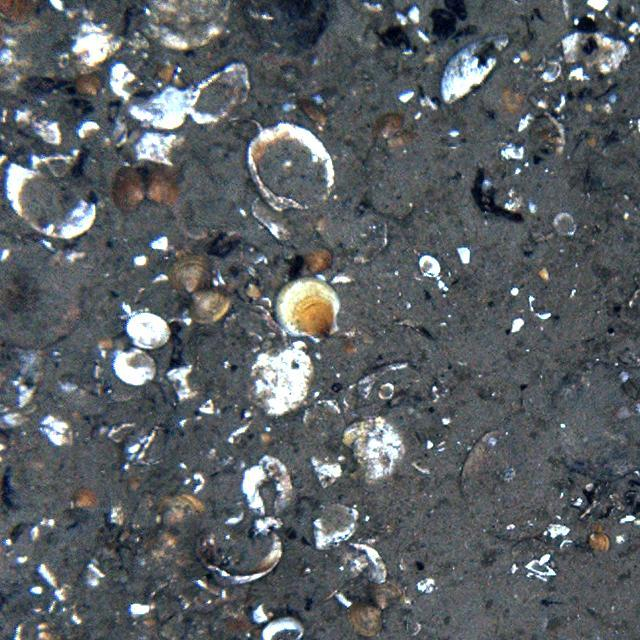scallop: (270, 274, 348, 344)
